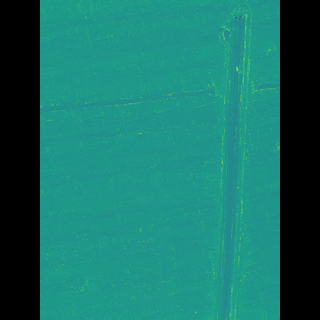Loch: (193, 0, 231, 320)
